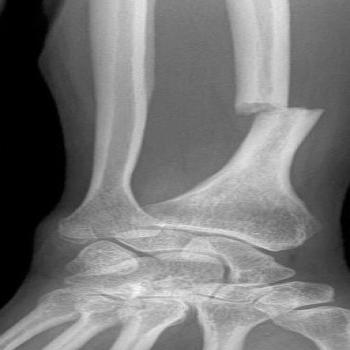Fracture: (223, 93, 340, 125)
